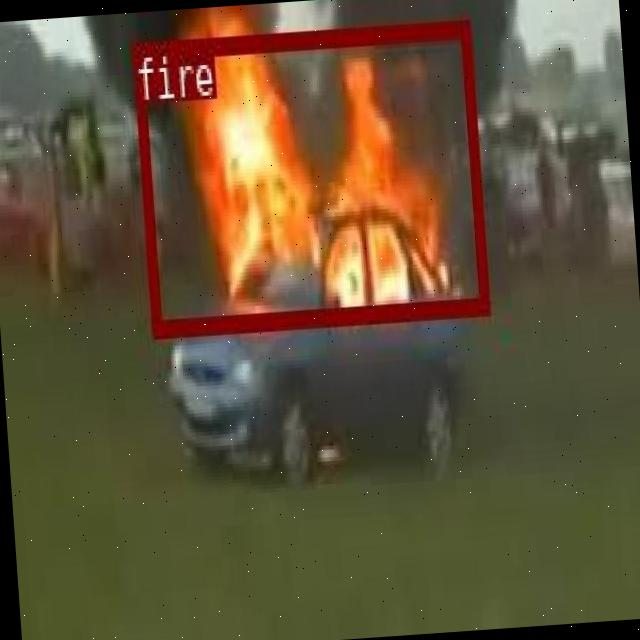fire: (131, 16, 488, 334)
